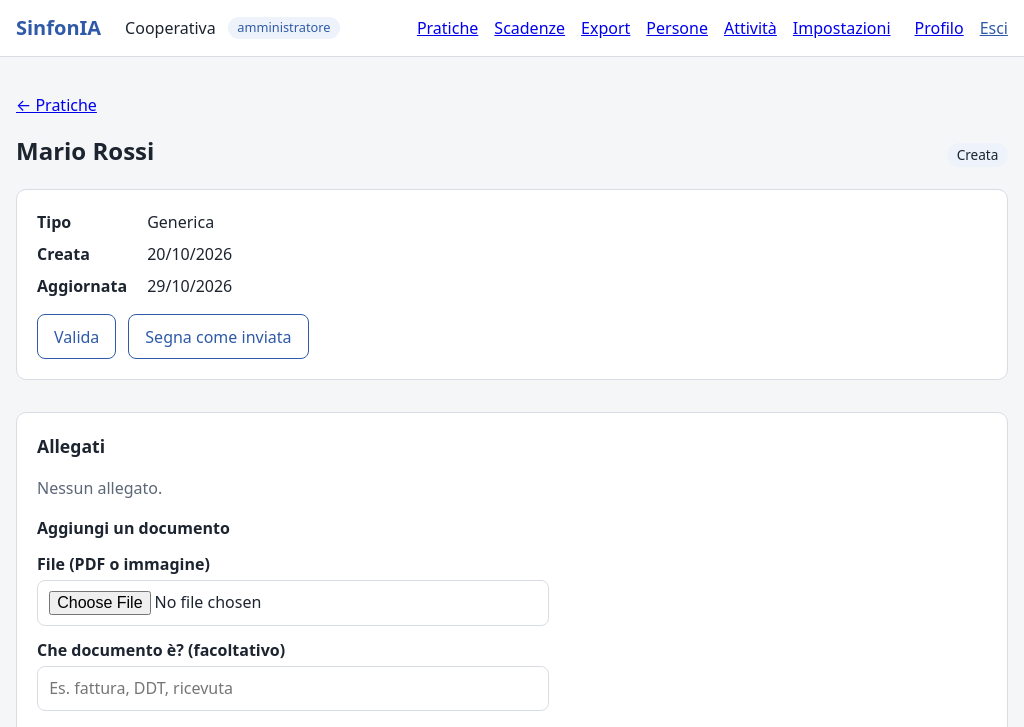
Test case: practices (FE2) › offers only the allowed state changes, and asks before applying one
Click the button "Valida" at (77, 337), box [37,314,116,359]
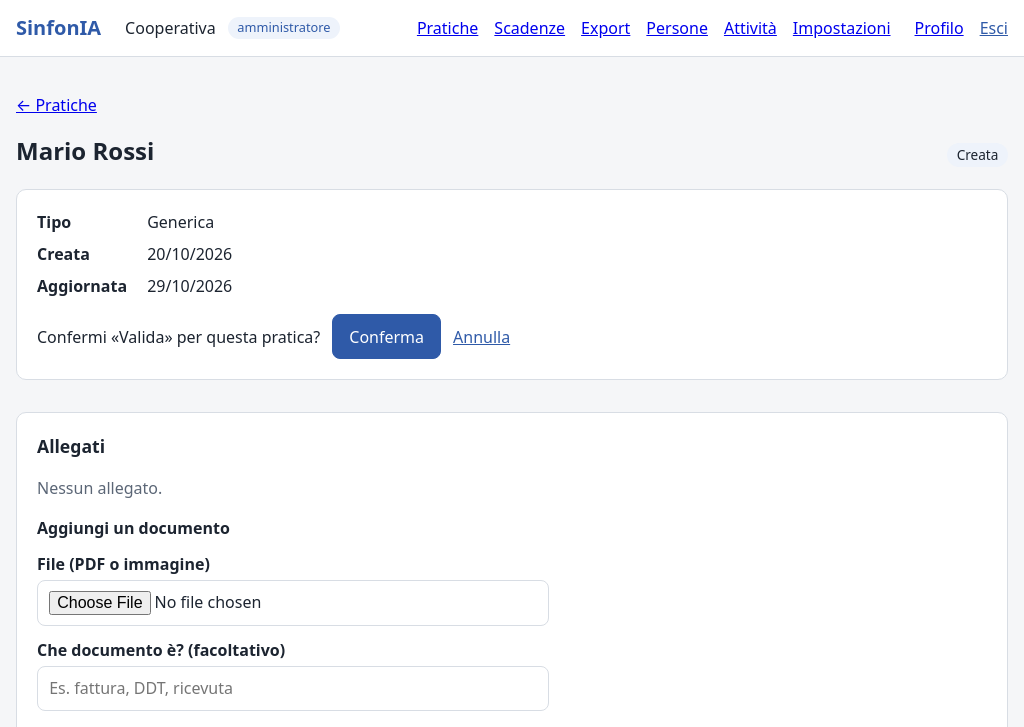
Now the text "Confermi «Valida» per questa pratica?" is shown, box [37,325,320,349]
Click the button "Conferma" at (387, 337), box [332,314,441,359]
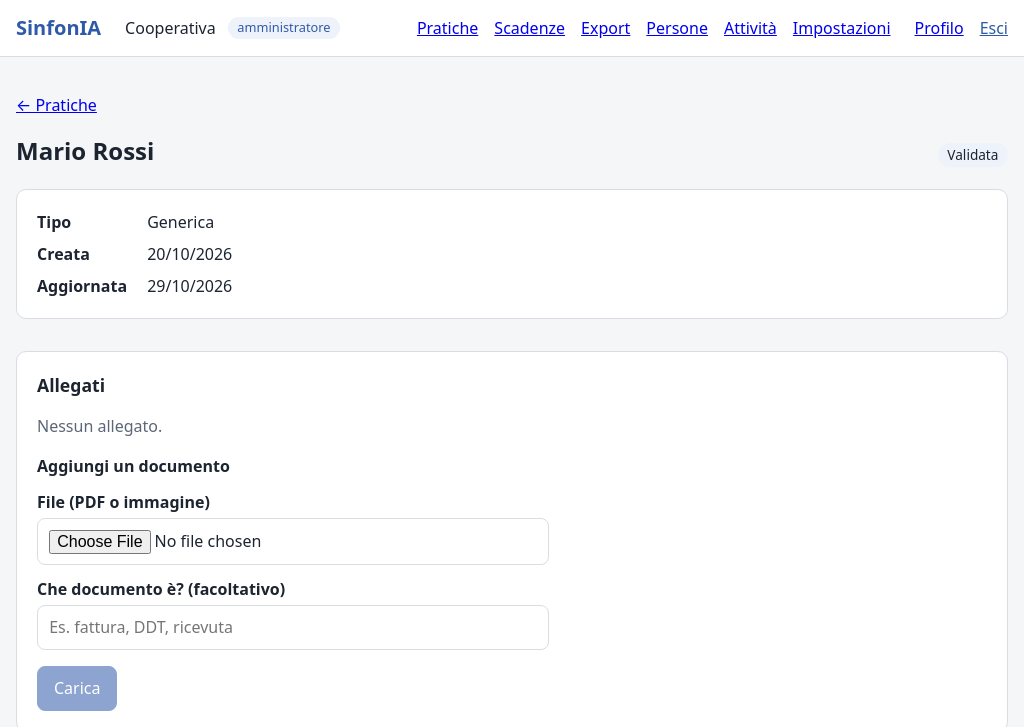
Now the text "Validata" is shown, box [938,143,1008,167]
